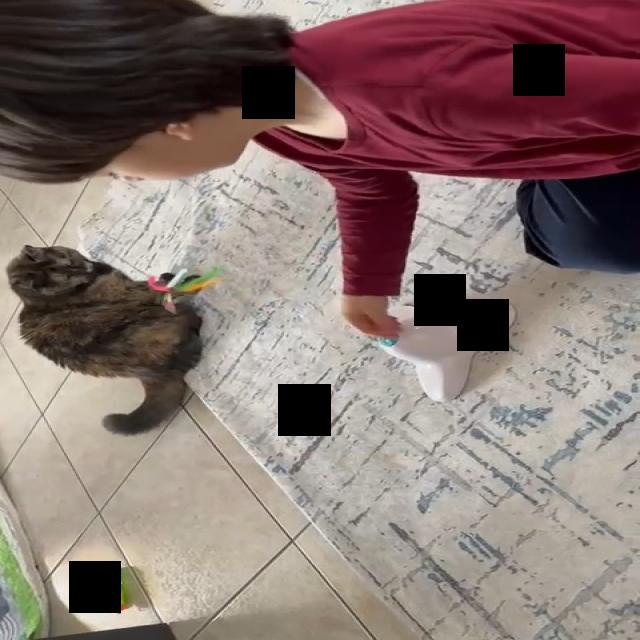authorized: (4, 244, 204, 436)
